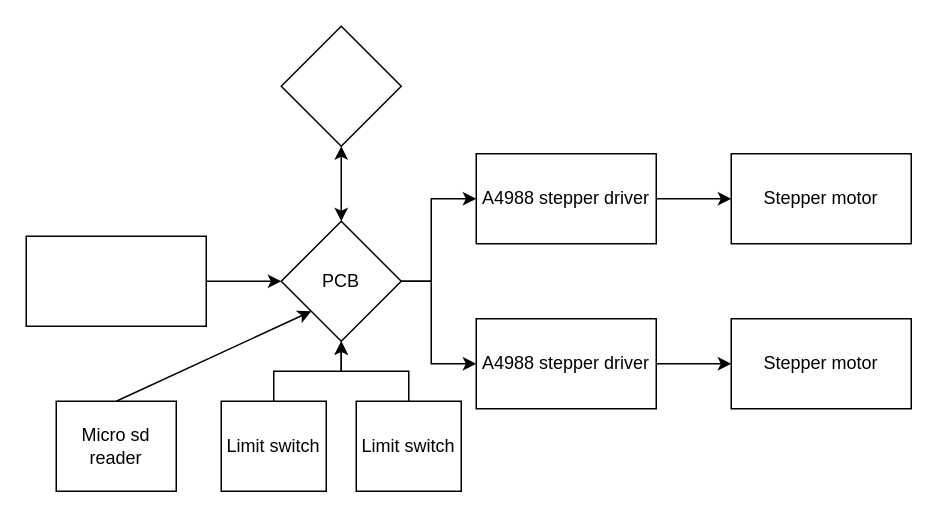
Some shapes in this 938 by 518 pixel diagram are drawn without their labels. The shapes that lost their labels are listed below. From the top down, each one's box as (x1, y1, x2, y2) in pixels, then its label:
(280, 25, 401, 146): Arduino
(25, 235, 206, 326): Power supply
